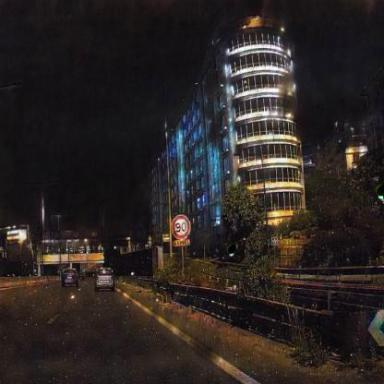Speed_limit_90: (173, 215, 191, 239)
